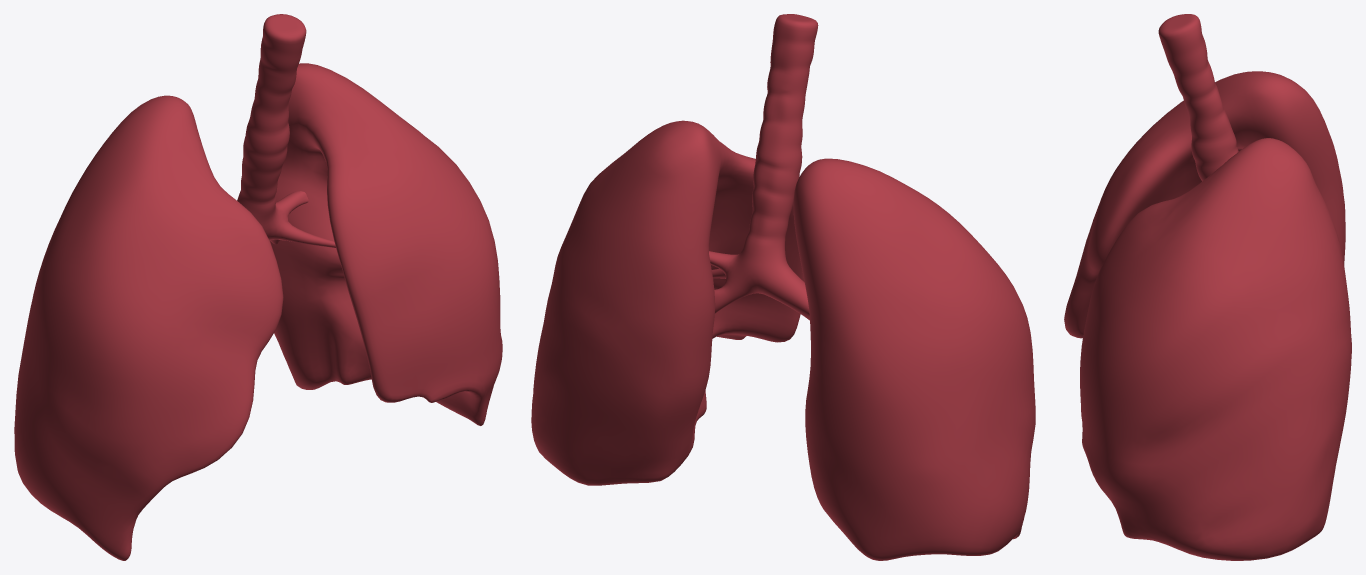
Rendered from severo1_lungs-fixR.glb.
3 renders of one model, left to right at view 1: azimuth 30°, elevation 25°; view 2: azimuth 150°, elevation 25°; view 3: azimuth 270°, elevation 25°, orthographic. The views are drawn at different scales.
Parts seen in each view (by area): view 1: 0; view 2: 0; view 3: 0.
Part boxes in pixels (x1,y1,x2,y2): 0: (14,14,502,560); 0: (531,14,1035,560); 0: (1064,14,1351,560).
Size of the model in its own units: 0.4734 by 0.481 by 0.2591.
